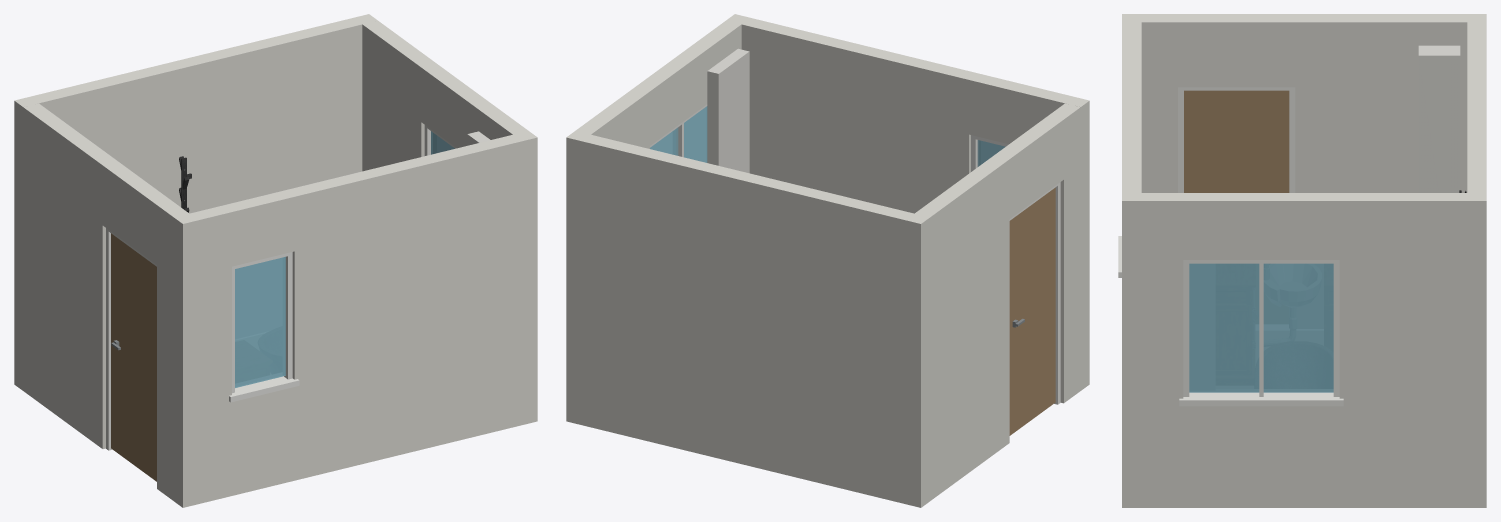
File: layoutvlm.glb
3 renders of one model, left to right at view 1: azimuth 30°, elevation 25°; view 2: azimuth 150°, elevation 25°; view 3: azimuth 270°, elevation 25°, orthographic. The views are drawn at different scales.
Parts seen in each view (by area): view 1: wall|scenesmith_060__R00|0, wall|scenesmith_060__R00|1, wall|scenesmith_060__R00|2, wall|scenesmith_060__R00|3, wall|scenesmith_060__R00|2 Door 0 | wood leaf, wall|scenesmith_060__R00|0 Window 0 | glazing, wall|scenesmith_060__R00|0 Window 0 | jamb, wall|scenesmith_060__R00|2 Door 0 | jamb; view 2: wall|scenesmith_060__R00|1, wall|scenesmith_060__R00|0, wall|scenesmith_060__R00|2, wall|scenesmith_060__R00|2 Door 0 | wood leaf, wall|scenesmith_060__R00|3, scenesmith_060__R00_plumbing_chase-0 | structural enclosure, wall|scenesmith_060__R00|3 Window 0 | glazing, wall|scenesmith_060__R00|2 Door 0 | jamb; view 3: wall|scenesmith_060__R00|3, wall|scenesmith_060__R00|2, wall|scenesmith_060__R00|3 Window 0 | glazing, wall|scenesmith_060__R00|2 Door 0 | wood leaf, wall|scenesmith_060__R00|1, wall|scenesmith_060__R00|0, scenesmith_060__R00_plumbing_chase-0 | structural enclosure, wall|scenesmith_060__R00|3 Window 0 | jamb, wall|scenesmith_060__R00|2 Door 0 | jamb.
Boxes of the visible parts, x1,y1,x2,y2 form: wall|scenesmith_060__R00|0: (174,135,521,507); wall|scenesmith_060__R00|1: (14,14,377,390); wall|scenesmith_060__R00|2: (23,103,198,507); wall|scenesmith_060__R00|3: (362,20,537,424); wall|scenesmith_060__R00|2 Door 0 | wood leaf: (111,233,156,481); wall|scenesmith_060__R00|0 Window 0 | glazing: (235,256,285,387); wall|scenesmith_060__R00|0 Window 0 | jamb: (229,252,299,402); wall|scenesmith_060__R00|2 Door 0 | jamb: (106,228,156,450); wall|scenesmith_060__R00|1: (566,131,929,507); wall|scenesmith_060__R00|0: (741,18,1089,390); wall|scenesmith_060__R00|2: (905,103,1080,507); wall|scenesmith_060__R00|2 Door 0 | wood leaf: (1009,187,1055,435); wall|scenesmith_060__R00|3: (575,14,750,148); scenesmith_060__R00_plumbing_chase-0 | structural enclosure: (707,48,749,173); wall|scenesmith_060__R00|3 Window 0 | glazing: (650,106,707,162); wall|scenesmith_060__R00|2 Door 0 | jamb: (1009,182,1060,404); wall|scenesmith_060__R00|3: (1122,193,1467,507); wall|scenesmith_060__R00|2: (1141,14,1467,192); wall|scenesmith_060__R00|3 Window 0 | glazing: (1189,263,1333,392); wall|scenesmith_060__R00|2 Door 0 | wood leaf: (1184,90,1289,192); wall|scenesmith_060__R00|1: (1467,14,1486,507); wall|scenesmith_060__R00|0: (1122,14,1141,507); scenesmith_060__R00_plumbing_chase-0 | structural enclosure: (1418,45,1460,192); wall|scenesmith_060__R00|3 Window 0 | jamb: (1179,260,1343,406); wall|scenesmith_060__R00|2 Door 0 | jamb: (1178,87,1295,192).
Size of the model in its own units: 3.43 by 2.61 by 2.83.
Materials: 12 (5 with a texture image).
